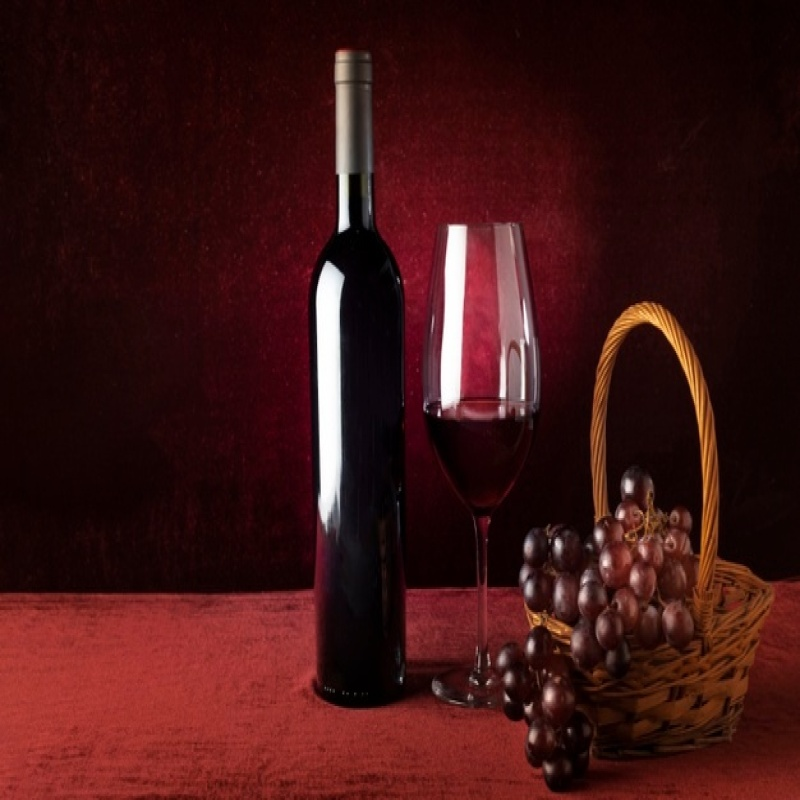wine: (302, 50, 414, 702)
